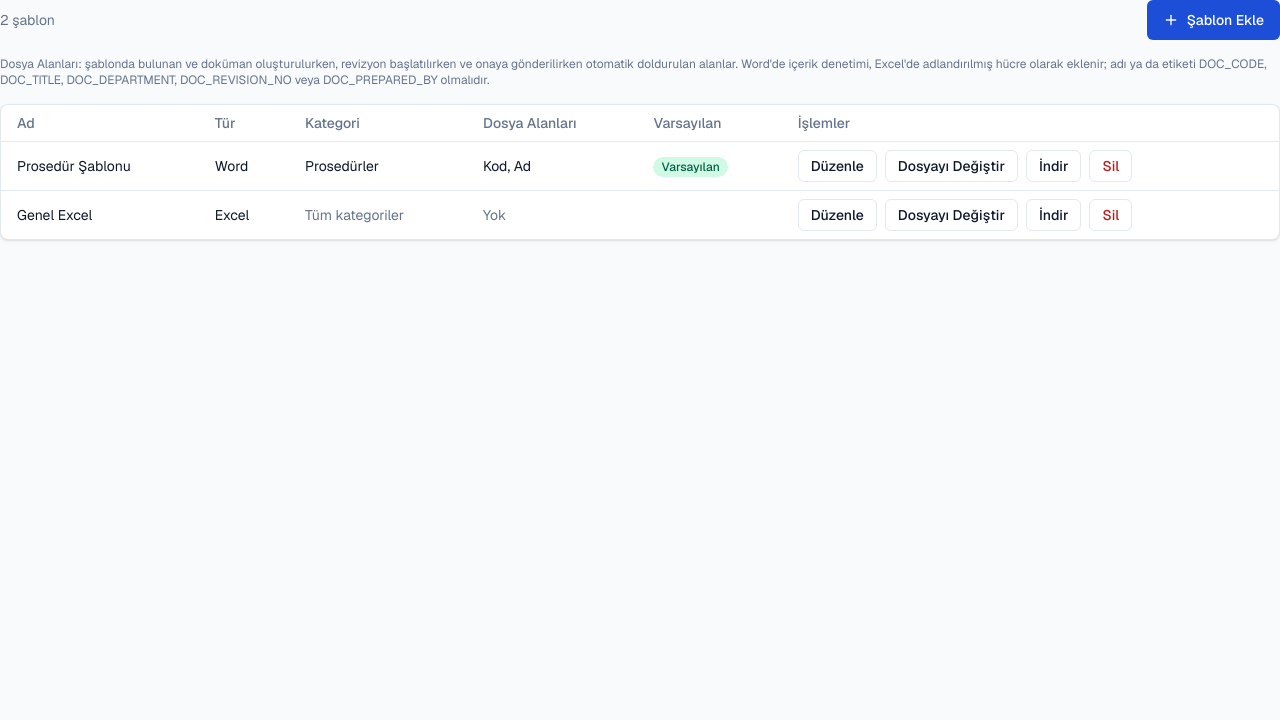
TemplateAdmin adding › does not send no file
Click the button "Şablon Ekle".
click(1213, 20)  # box [1147,0,1279,40]
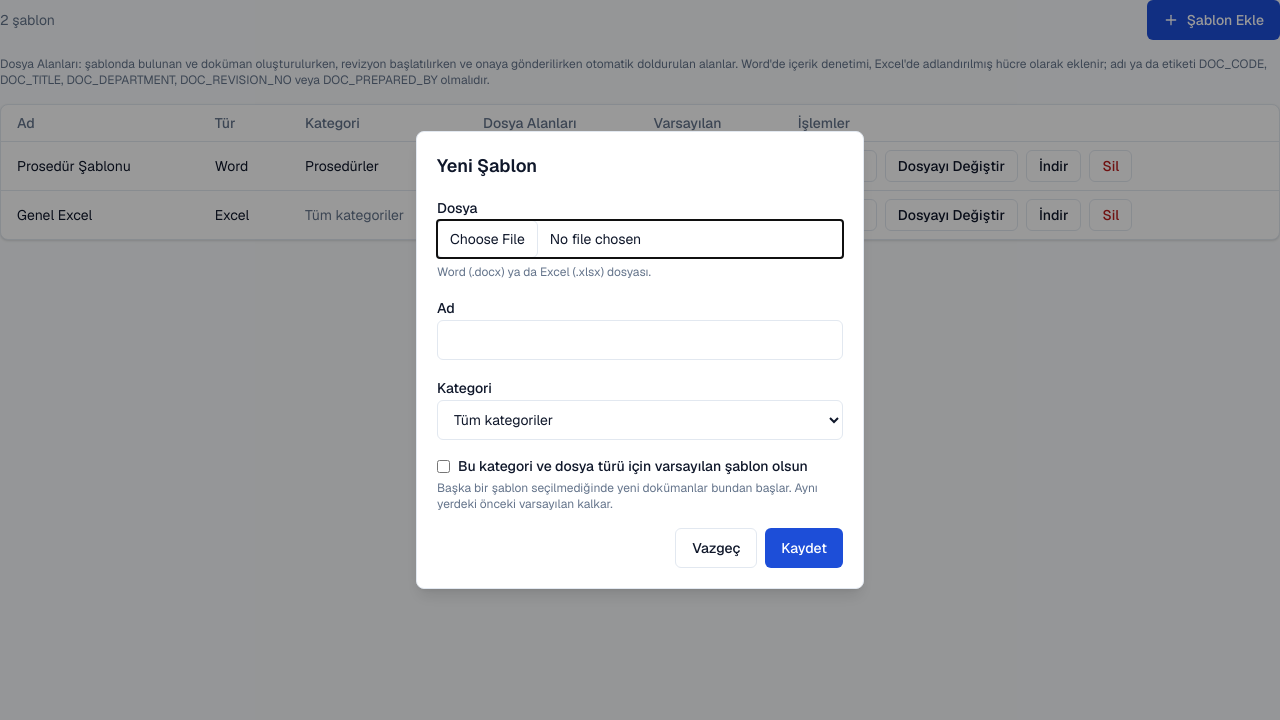
Type "Şablon Adı" into the field labelled "Ad".
click(640, 340); type("Şablon Adı")  # box [437,320,843,360]
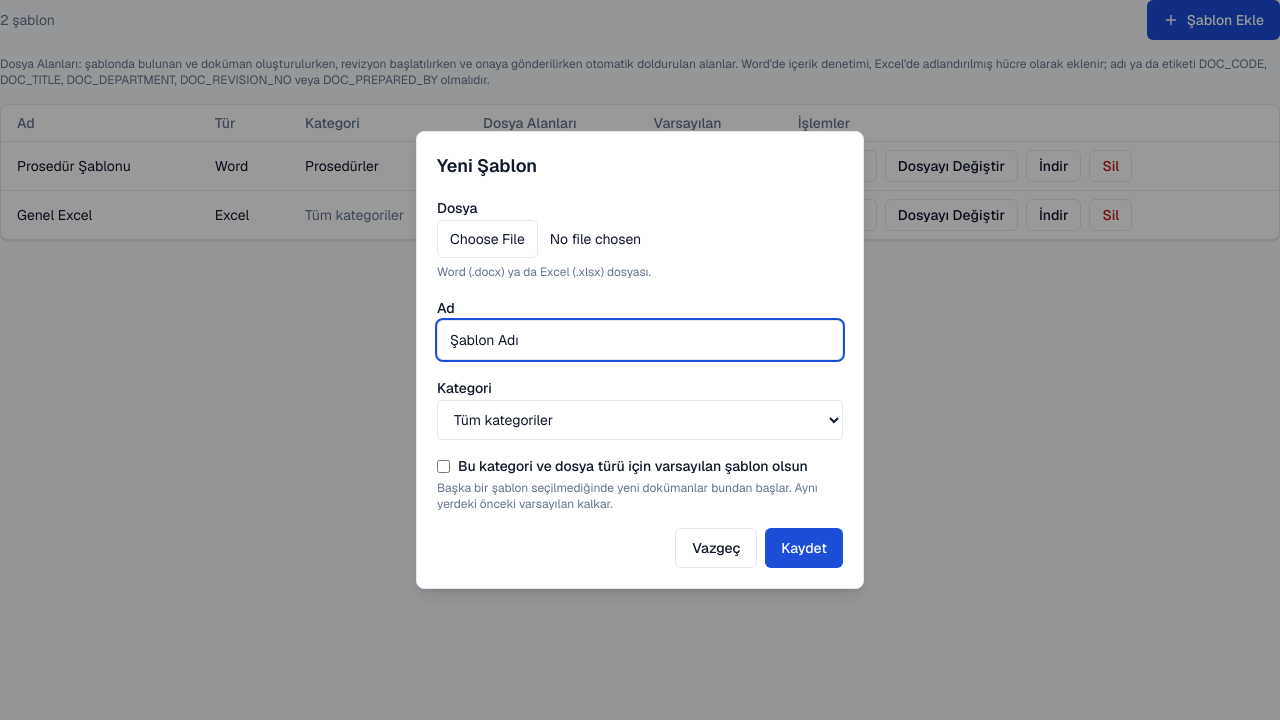
Click the button "Kaydet".
click(804, 548)  # box [765,528,843,568]
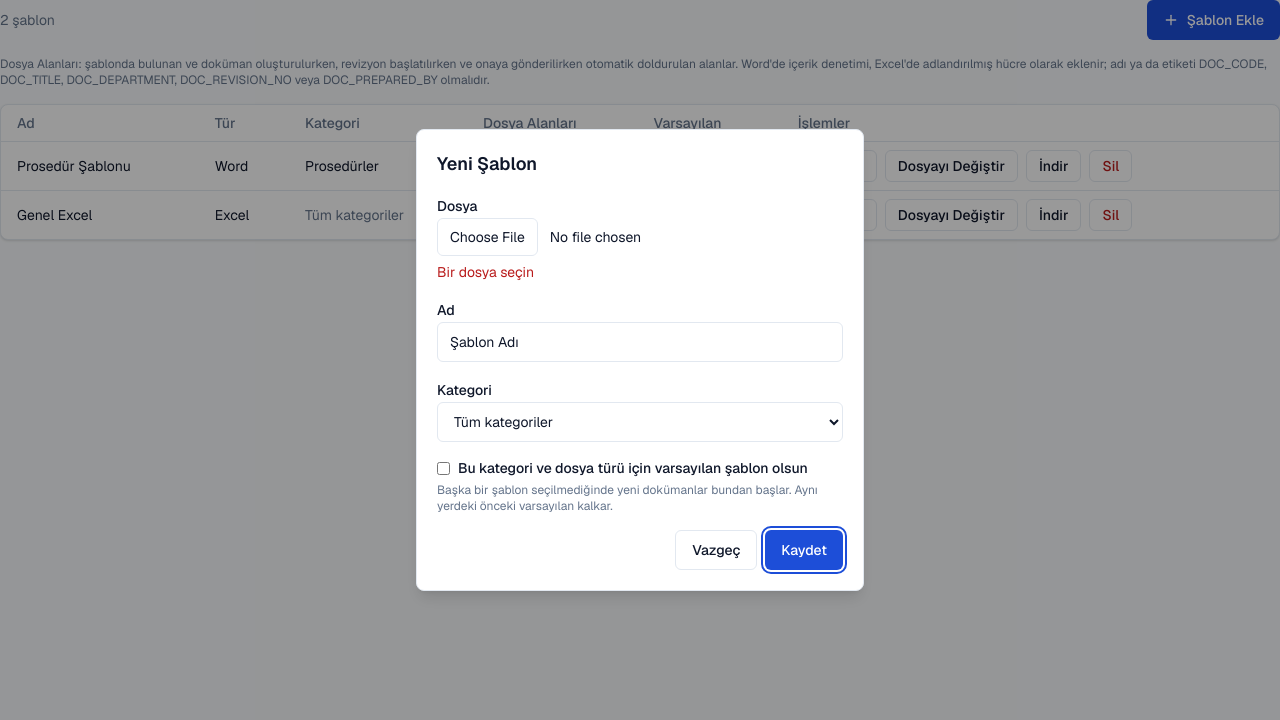
Check: the text "Bir dosya seçin" is shown, box [437,263,534,281]
